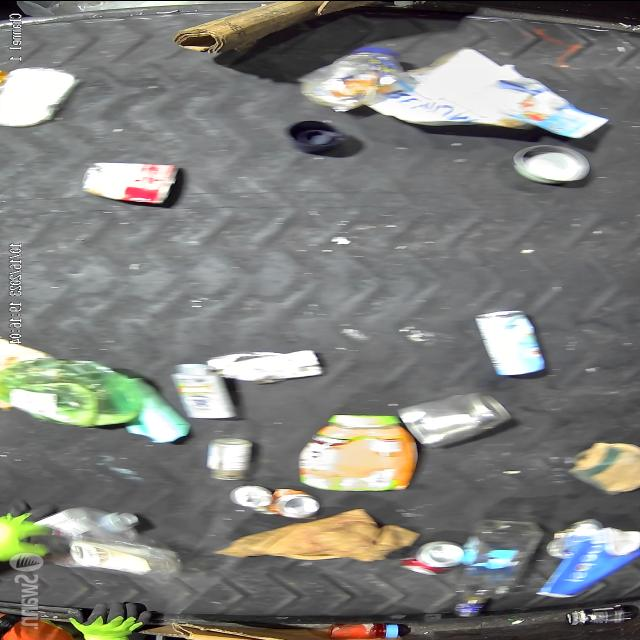can: (472, 308, 548, 378), (78, 160, 182, 203), (512, 143, 594, 183), (396, 538, 464, 574), (258, 486, 318, 520), (230, 483, 267, 515)
non_white_jug: (296, 412, 420, 492)
plastic_bottle: (452, 518, 544, 618), (43, 532, 181, 580)
